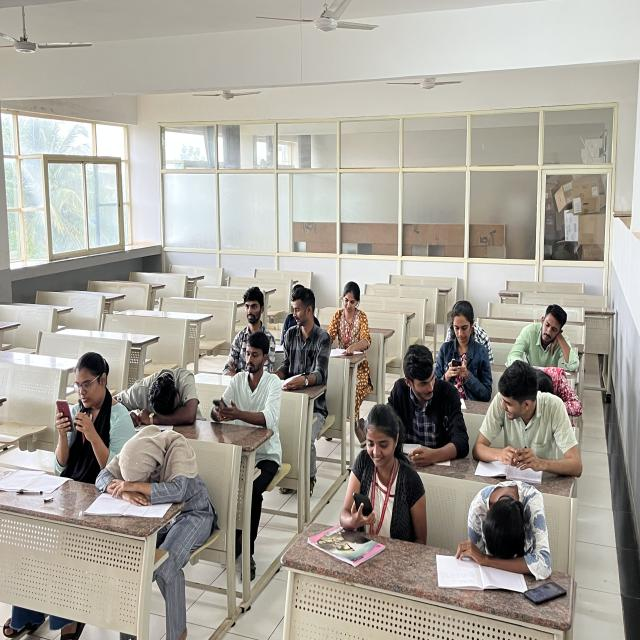Reading: (326, 268, 380, 378)
Sleeping: (447, 471, 560, 578), (110, 415, 206, 514), (121, 340, 203, 430), (526, 348, 592, 417)
Using Phone: (41, 336, 126, 552), (340, 393, 422, 537), (202, 323, 277, 430), (427, 296, 502, 396)
Writing: (507, 300, 593, 376)
